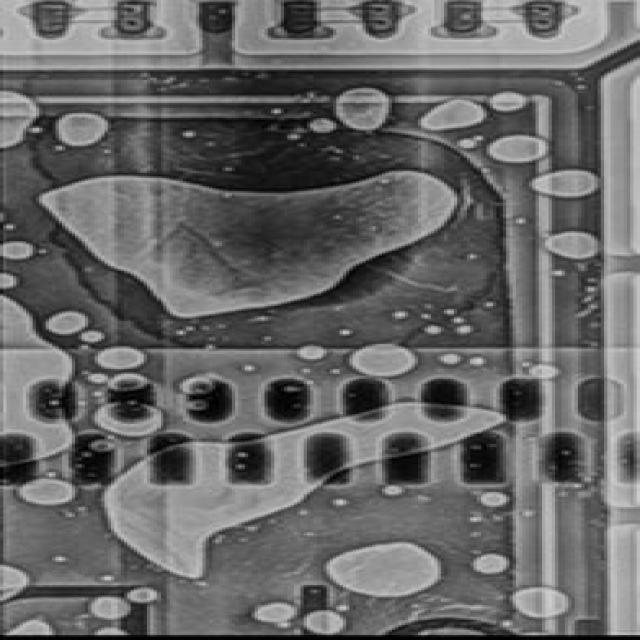component: (0, 66, 601, 640)
void: (104, 404, 506, 579), (39, 171, 460, 318), (0, 298, 72, 460), (327, 544, 441, 599), (333, 86, 392, 131), (0, 91, 42, 147), (349, 344, 418, 378), (95, 405, 163, 439), (418, 98, 487, 131), (532, 170, 601, 199), (487, 135, 549, 165), (56, 113, 108, 146), (16, 479, 75, 507), (518, 588, 571, 619), (545, 231, 601, 260), (95, 347, 147, 372), (42, 311, 88, 336), (304, 612, 346, 637), (2, 567, 29, 603), (251, 603, 297, 624), (470, 555, 513, 576), (3, 620, 52, 638), (490, 91, 529, 113), (91, 598, 127, 621), (108, 374, 150, 393), (522, 362, 562, 381), (0, 241, 36, 261), (124, 588, 160, 606), (529, 364, 562, 381), (180, 376, 210, 394), (307, 118, 340, 133), (297, 346, 327, 362), (457, 136, 487, 150), (480, 494, 509, 508), (91, 628, 127, 638), (438, 354, 464, 367), (92, 438, 115, 452), (78, 331, 104, 343), (320, 145, 346, 155), (382, 487, 405, 498), (85, 374, 108, 385), (75, 392, 88, 411), (189, 399, 208, 411), (248, 316, 274, 324), (238, 364, 258, 374), (424, 326, 444, 336), (454, 326, 473, 336), (392, 311, 411, 321), (470, 357, 487, 367), (415, 495, 431, 505), (59, 510, 75, 520), (88, 391, 104, 401), (513, 216, 529, 226), (330, 500, 348, 508), (552, 269, 568, 278), (98, 575, 114, 583), (464, 253, 480, 261), (180, 130, 196, 138), (578, 491, 593, 499), (287, 133, 304, 140), (285, 384, 302, 391), (212, 535, 225, 544), (444, 309, 457, 318), (49, 557, 65, 564), (327, 369, 343, 376), (336, 605, 349, 613), (75, 507, 88, 515), (470, 517, 483, 525), (470, 532, 483, 540), (493, 515, 506, 523), (340, 329, 353, 337), (52, 145, 65, 153), (303, 378, 316, 386), (522, 512, 536, 519), (193, 582, 209, 588), (451, 318, 467, 324), (297, 510, 310, 517), (483, 301, 496, 308), (222, 166, 235, 173), (101, 148, 114, 155), (3, 223, 16, 230), (77, 343, 90, 350), (245, 527, 260, 533), (173, 331, 186, 337), (183, 326, 196, 332), (216, 324, 229, 330), (261, 336, 274, 342), (271, 108, 284, 114), (36, 248, 49, 254), (421, 314, 431, 321), (82, 451, 92, 458), (561, 449, 571, 456), (304, 534, 317, 539), (300, 369, 313, 374), (575, 85, 588, 90), (238, 539, 248, 545), (199, 326, 209, 332), (236, 464, 248, 469), (237, 452, 248, 457), (257, 73, 268, 78), (469, 462, 478, 468), (268, 520, 278, 525), (470, 552, 480, 557), (206, 346, 216, 351), (489, 442, 497, 448), (51, 399, 59, 405), (200, 78, 209, 83), (148, 78, 157, 83), (224, 77, 235, 81), (471, 444, 481, 448), (157, 87, 167, 91), (165, 76, 177, 79), (140, 72, 149, 76), (162, 80, 172, 83), (76, 463, 81, 467)
